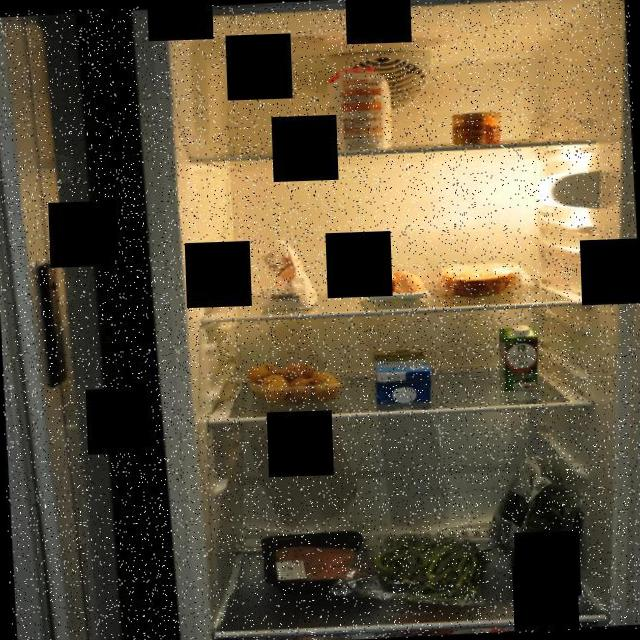Carne pollo: (268, 530, 366, 583)
Huevos: (358, 265, 429, 298)
Leche: (366, 344, 438, 409)
Patata: (244, 357, 340, 404)
